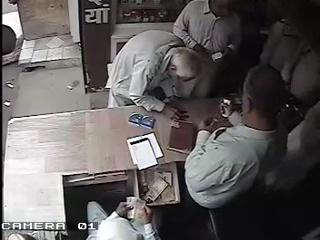Normal: (184, 64, 290, 236), (106, 30, 206, 112), (172, 0, 242, 76), (87, 198, 161, 240)
